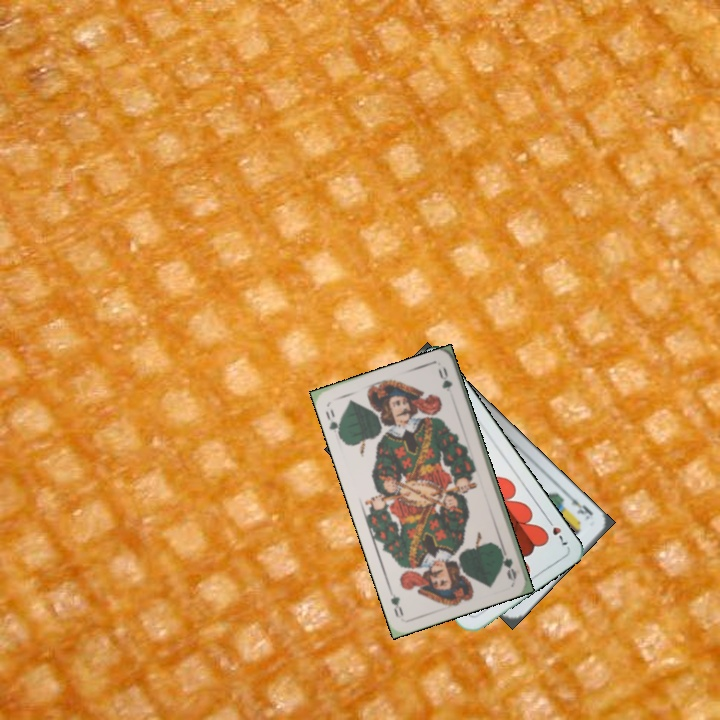EK: (563, 489, 595, 523)
GO: (494, 541, 519, 582), (321, 405, 344, 440)
H7: (542, 514, 571, 548)
